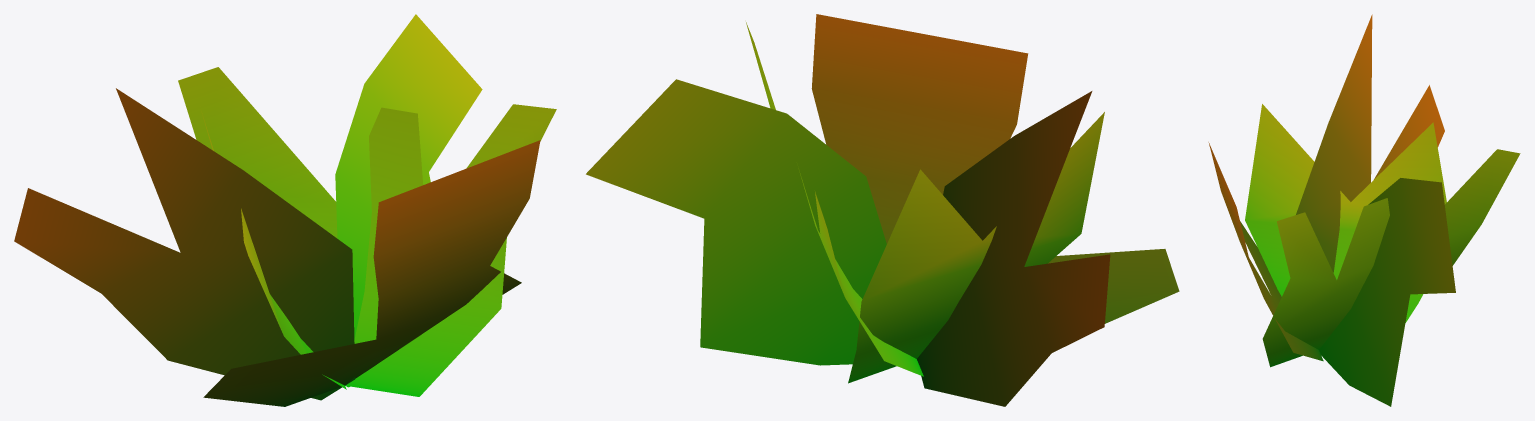
Rendered from Var3_LOD0.fbx.
3 views of the same model, side by side, from view 1: azimuth 30°, elevation 25°; view 2: azimuth 150°, elevation 25°; view 3: azimuth 270°, elevation 25° (orthographic). The views are drawn at different scales.
Parts seen in each view (by area): view 1: _8ec6_Var3_LOD0; view 2: _8ec6_Var3_LOD0; view 3: _8ec6_Var3_LOD0.
Boxes of the visible parts, x1=… form: _8ec6_Var3_LOD0: x1=14, y1=14, x2=556, y2=406; _8ec6_Var3_LOD0: x1=586, y1=14, x2=1179, y2=406; _8ec6_Var3_LOD0: x1=1208, y1=14, x2=1520, y2=406.
Size of the model in its own units: 42.92 by 29.22 by 30.31.
